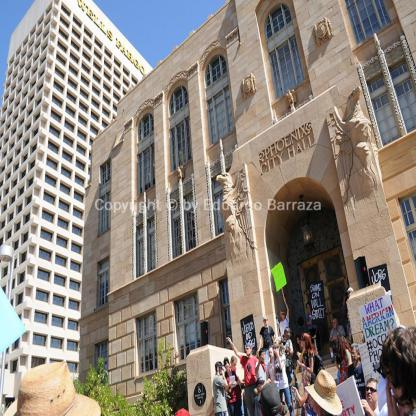face: (384, 369, 405, 405), (367, 385, 379, 405), (308, 390, 318, 413), (351, 350, 359, 364), (274, 346, 280, 355), (232, 361, 238, 369), (261, 353, 266, 362), (247, 347, 252, 356), (333, 321, 338, 329), (303, 377, 307, 387), (270, 350, 274, 360), (225, 364, 230, 372), (301, 339, 305, 348), (261, 383, 265, 392), (286, 332, 291, 339), (264, 320, 269, 326), (220, 367, 223, 376), (348, 313, 352, 319), (349, 293, 353, 299), (308, 305, 311, 311), (298, 339, 301, 345), (282, 314, 285, 320)
